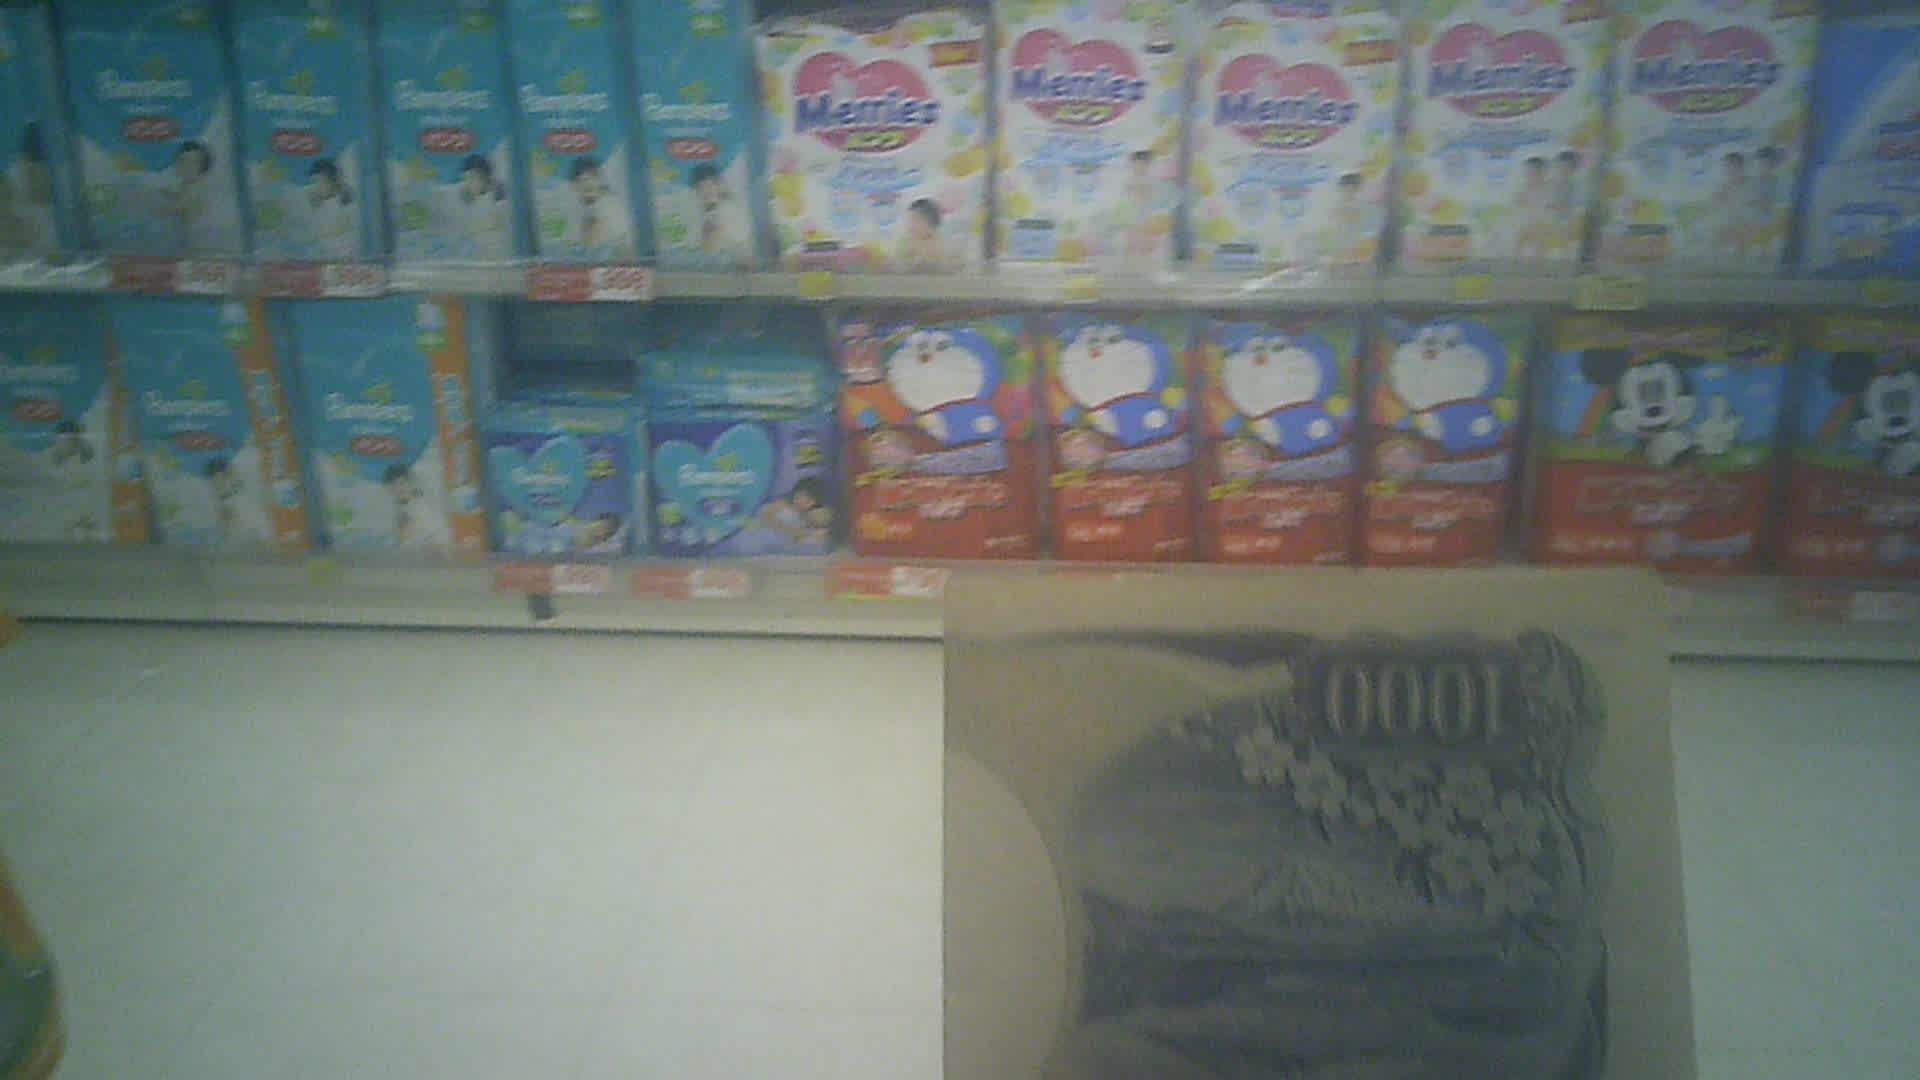1,000 Yen: (939, 564, 1688, 1079)
